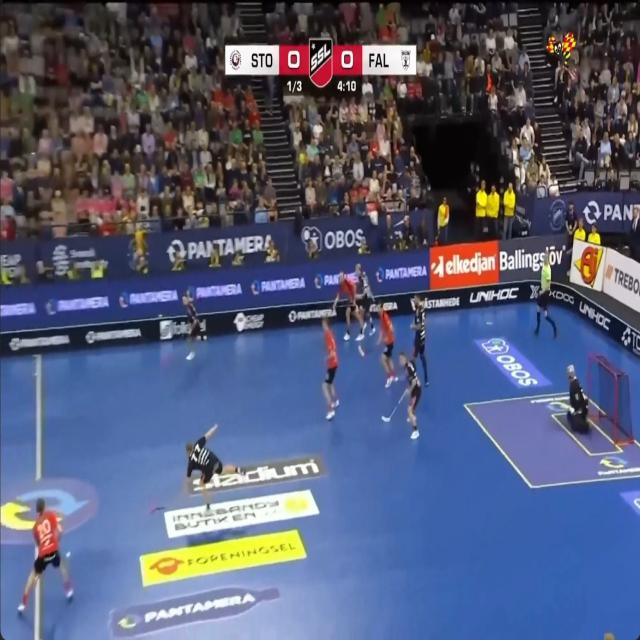player: (18, 498, 73, 613), (185, 425, 244, 509), (333, 271, 364, 341), (398, 352, 421, 438), (534, 249, 556, 336), (322, 319, 339, 419), (378, 308, 398, 387), (411, 295, 428, 385), (567, 367, 589, 434), (355, 263, 375, 333), (182, 293, 202, 360)
stick: (382, 390, 406, 422), (150, 506, 165, 513), (358, 345, 364, 355)
